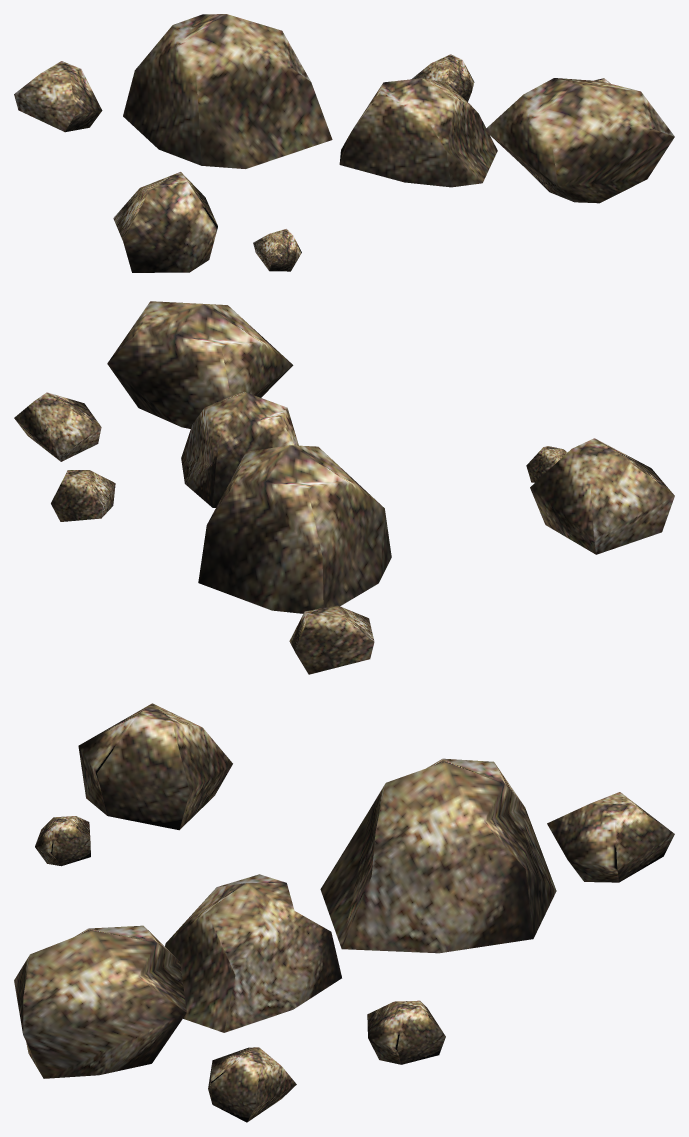
The model's file is stone_001.obj.
3 views of the same model, one above another, from view 1: azimuth 30°, elevation 25°; view 2: azimuth 150°, elevation 25°; view 3: azimuth 270°, elevation 25° (orthographic). The views are drawn at different scales.
Visible parts, largest first — view 1: Mesh; view 2: Mesh; view 3: Mesh.
Boxes of the visible parts, <box> form: Mesh: <box>14,14,674,272</box>; Mesh: <box>14,301,674,674</box>; Mesh: <box>14,703,674,1122</box>.
Size of the model in its own units: 190 by 43.68 by 152.
1 material, 1 textured.
